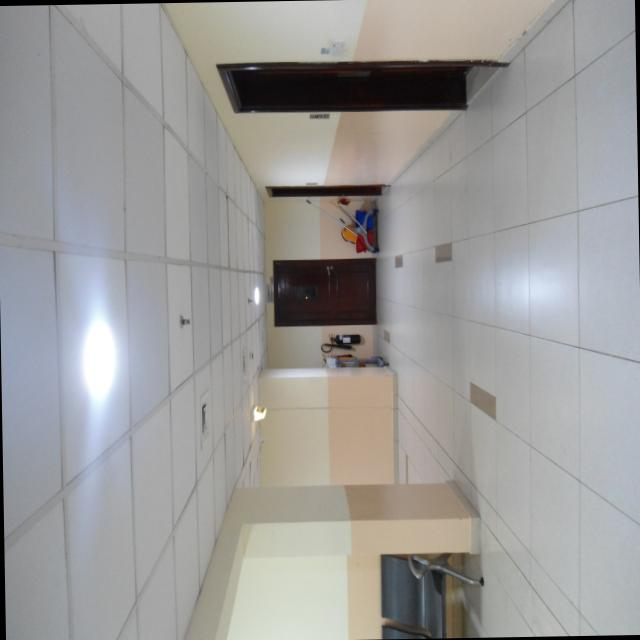bench: (371, 540, 493, 639)
cleaningCart: (322, 190, 384, 256), (320, 348, 390, 368)
door: (213, 52, 480, 116), (260, 256, 382, 333)
exitLight: (252, 392, 268, 428)
pillar: (241, 485, 490, 560)
